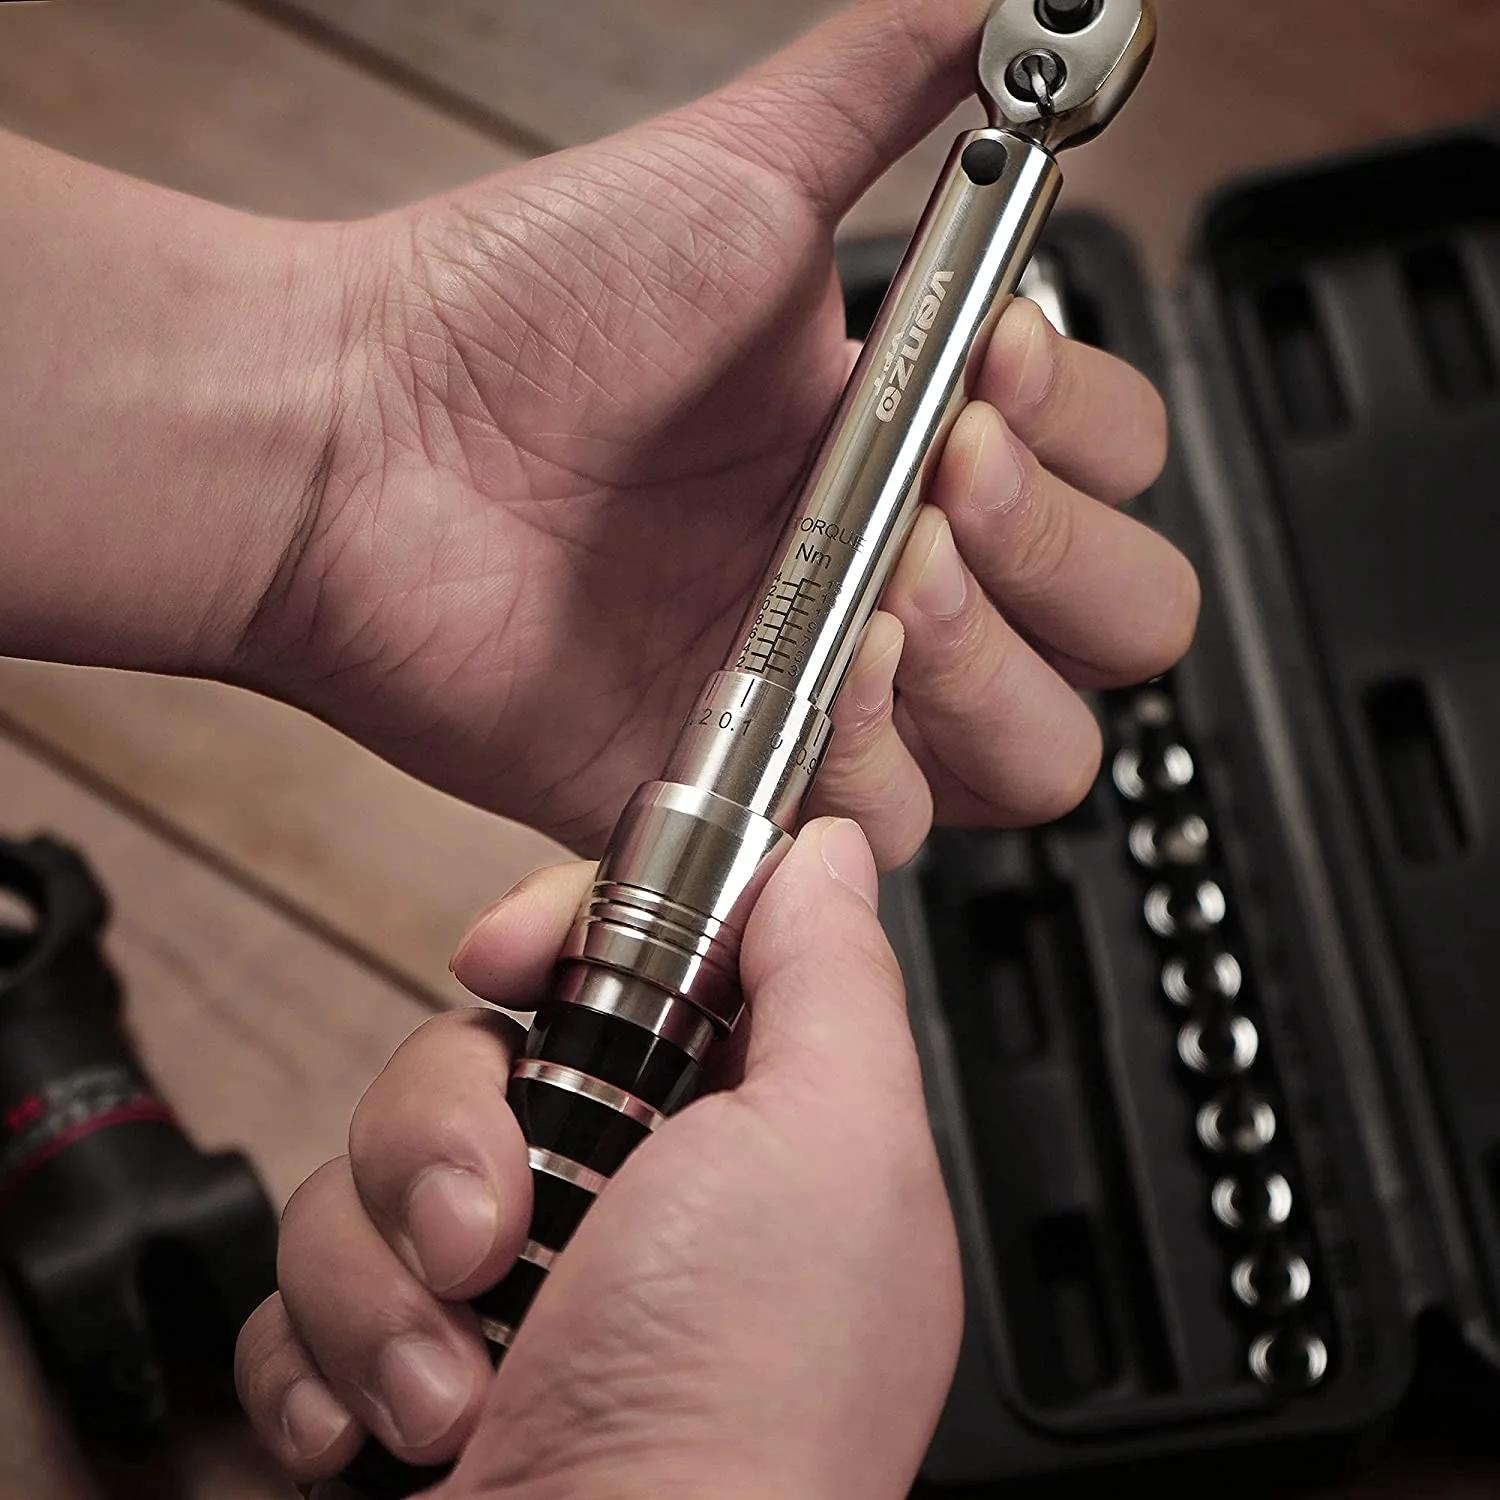Tool: (948, 3, 1161, 175)
